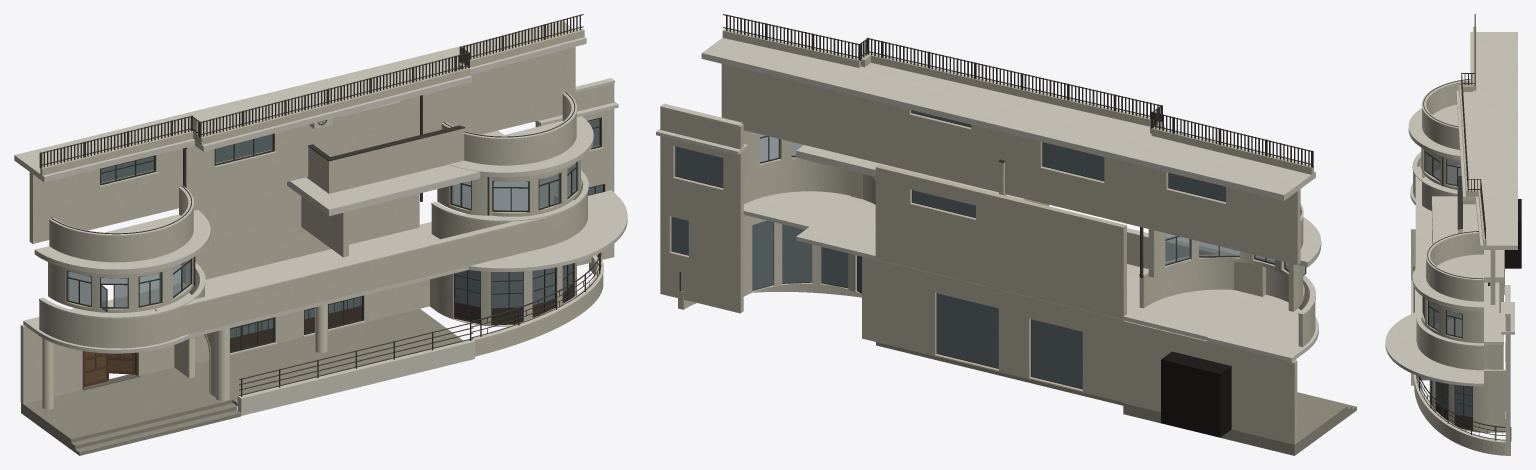
The model's file is xuhui-yuqing-80-twin-winter-gardens-web.glb.
The picture shows the model from 3 angles, left to right: view 1: azimuth 30°, elevation 25°; view 2: azimuth 150°, elevation 25°; view 3: azimuth 270°, elevation 25°; orthographic projection. The views are drawn at different scales.
Parts seen in each view (by area): view 1: 余庆路80号双圆阳光房花园立面; view 2: 余庆路80号双圆阳光房花园立面; view 3: 余庆路80号双圆阳光房花园立面.
Boxes of the visible parts, x1,y1,x2,y2 form: 余庆路80号双圆阳光房花园立面: (14,14,627,455); 余庆路80号双圆阳光房花园立面: (656,14,1356,455); 余庆路80号双圆阳光房花园立面: (1385,14,1521,455).
Bounding box in the file's own units: 24.95 × 10.95 × 6.19.
16 materials, 3 textured.
